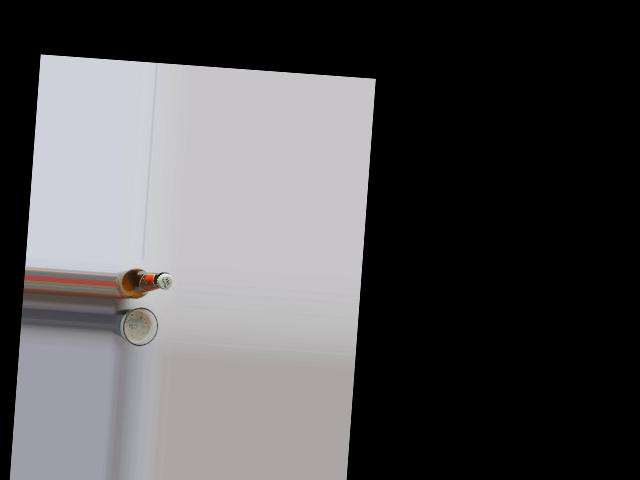beer: (113, 267, 172, 303)
